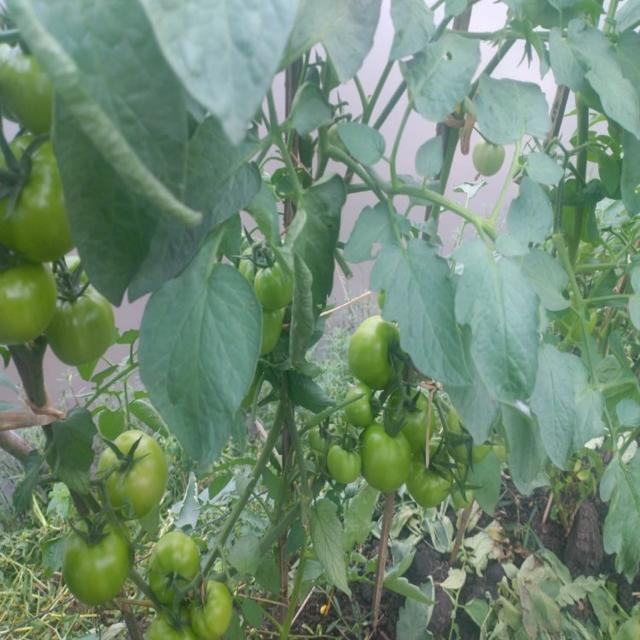tomato: (4, 134, 74, 260), (102, 434, 167, 516), (72, 529, 131, 607), (52, 289, 115, 359), (1, 260, 54, 342), (4, 50, 53, 130), (358, 425, 410, 496), (354, 322, 407, 387), (151, 534, 197, 597), (408, 450, 454, 503), (402, 392, 440, 454), (252, 253, 292, 309), (193, 583, 229, 640), (344, 387, 386, 435), (331, 447, 365, 492), (144, 613, 196, 640), (262, 306, 285, 358), (473, 142, 506, 178), (312, 424, 336, 452)
